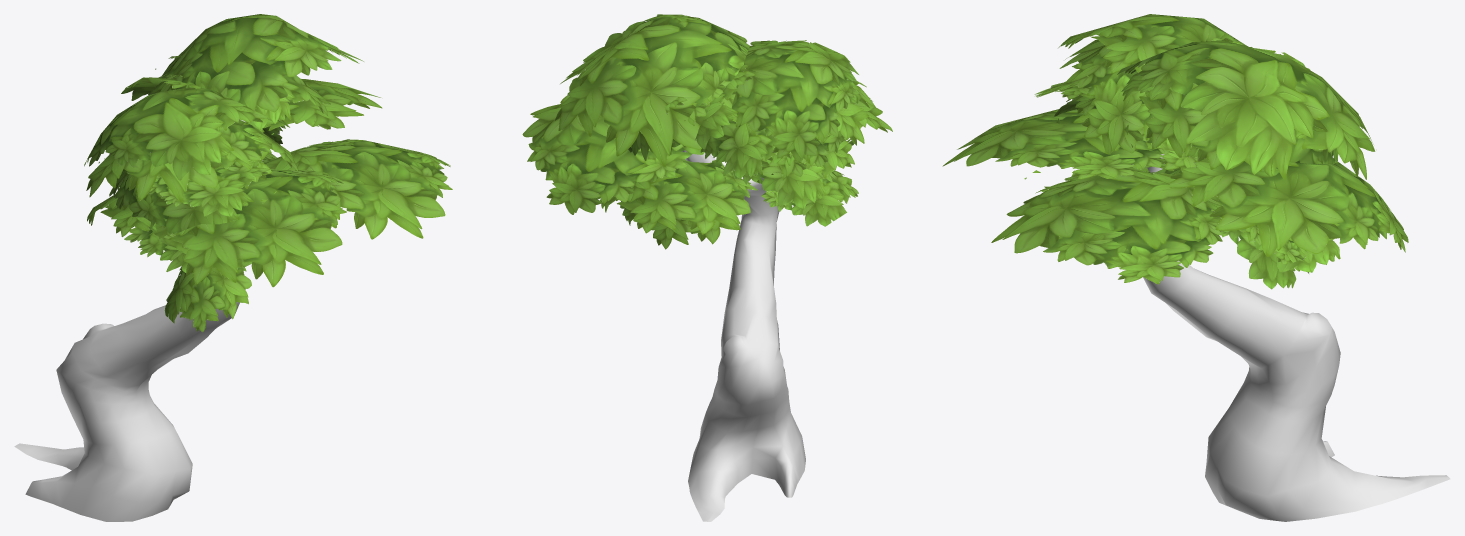
File: LargeTree3.fbx
The picture shows the model from 3 angles, left to right: view 1: azimuth 30°, elevation 25°; view 2: azimuth 150°, elevation 25°; view 3: azimuth 270°, elevation 25°; orthographic projection. The views are drawn at different scales.
Visible parts, largest first — view 1: SM_Tree; view 2: SM_Tree; view 3: SM_Tree.
Part boxes in pixels (x1,y1,x2,y2): SM_Tree: [14, 14, 452, 521]; SM_Tree: [522, 14, 892, 521]; SM_Tree: [942, 14, 1450, 521].
Size of the model in its own units: 256 by 310 by 290.
